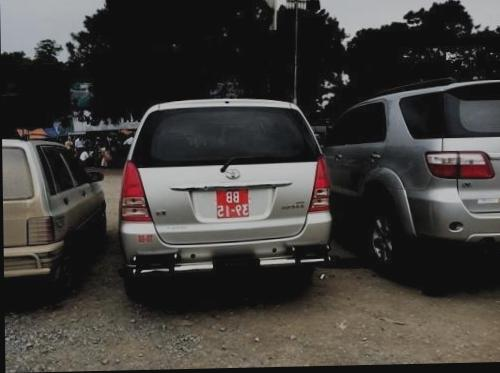License_Plate: (212, 187, 253, 220)
